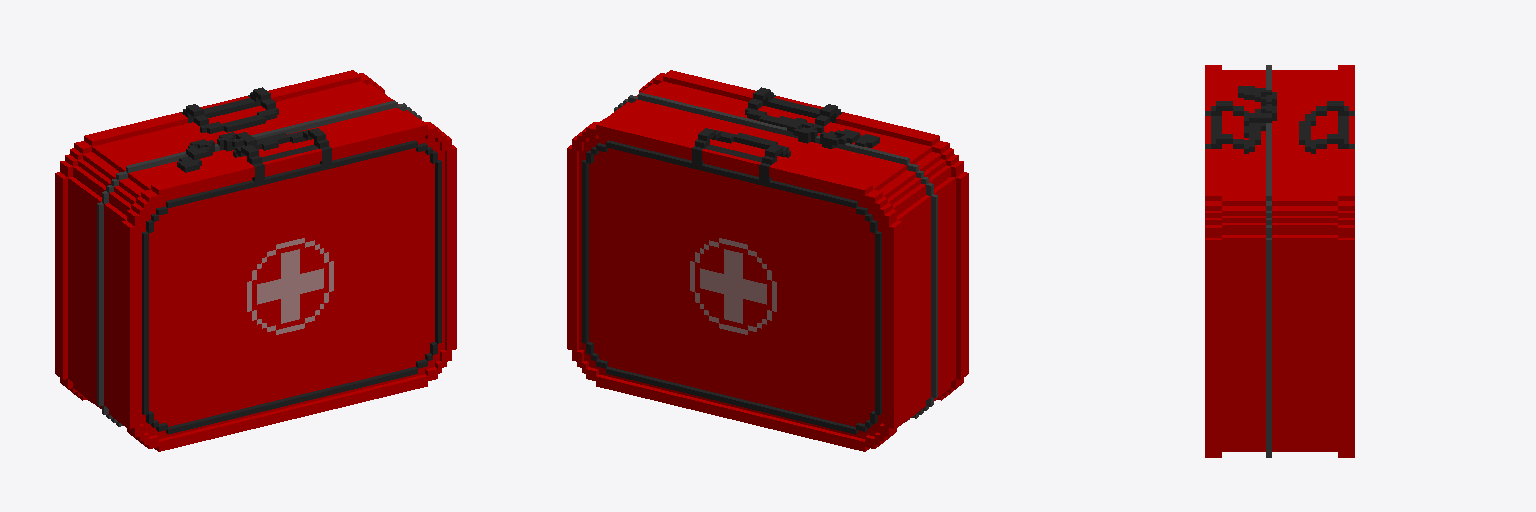
3 renders of one model, left to right at view 1: azimuth 30°, elevation 25°; view 2: azimuth 150°, elevation 25°; view 3: azimuth 270°, elevation 25°, orthographic.
Visible parts, largest first — view 1: object 1; view 2: object 1; view 3: object 1.
Part boxes in pixels (x1,y1,x2,y2): object 1: (55,70,456,451); object 1: (567,70,968,451); object 1: (1205,65,1354,457).
Size of the model in its own units: 6.8 by 5.4 by 2.7.
1 materials, 1 textured.